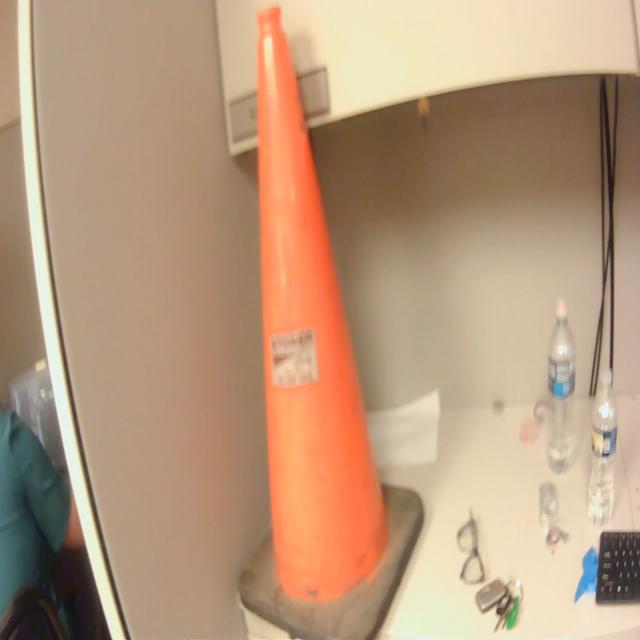traffic cone: (233, 1, 431, 640)
